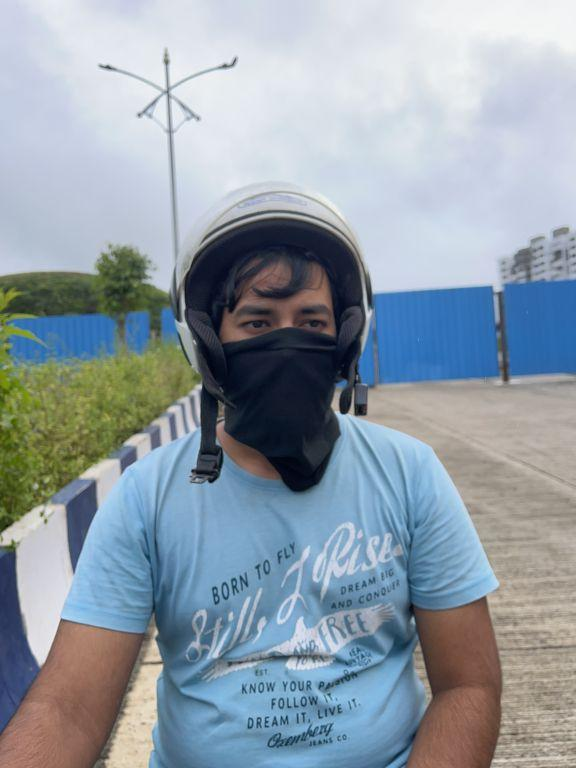helmet: (170, 170, 382, 466)
